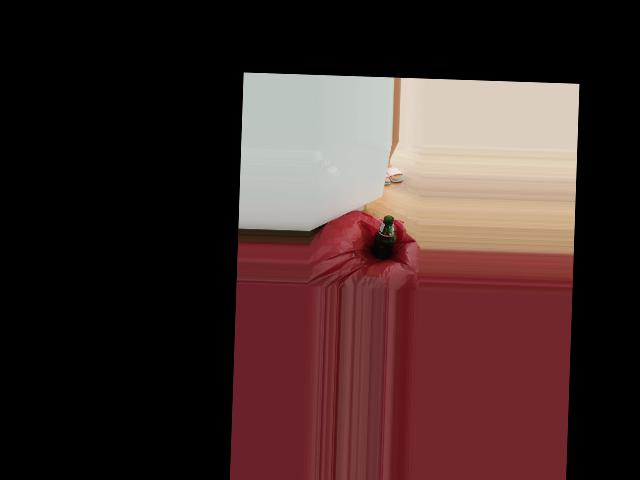beer: (371, 215, 396, 260)
